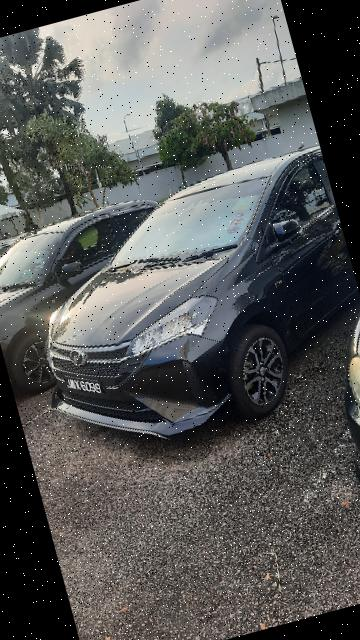License_Plate: (54, 362, 117, 416)
car: (11, 145, 360, 471), (1, 185, 209, 396)
